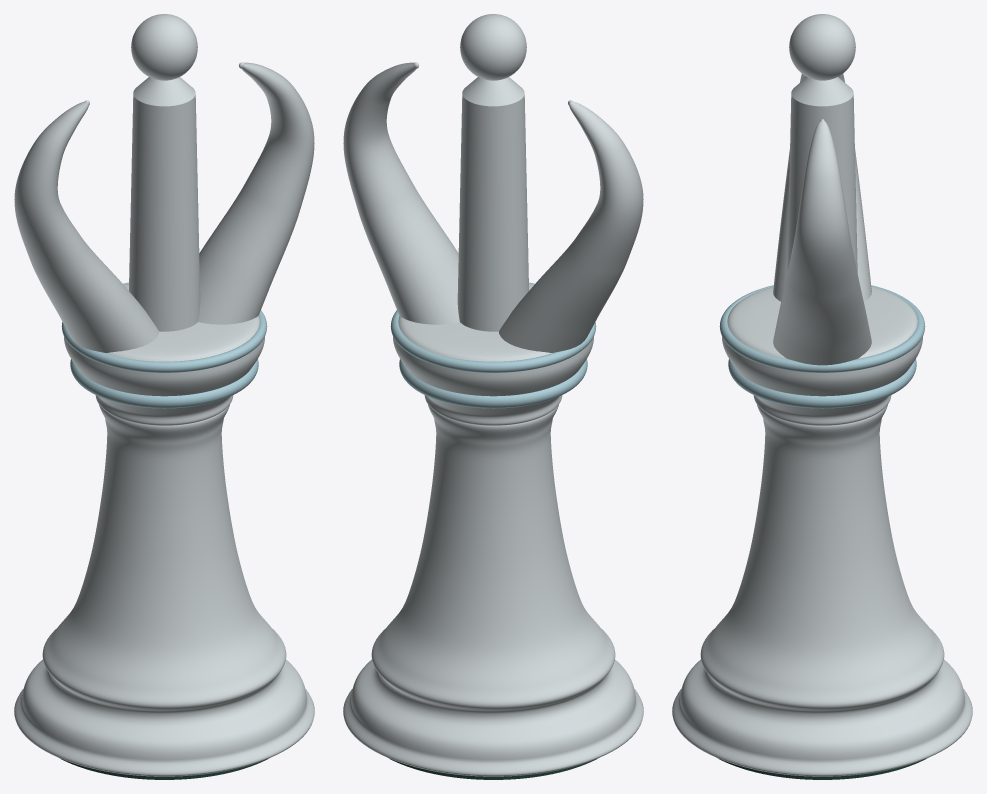
The model's file is Prince.glb.
3 renders of one model, left to right at view 1: azimuth 30°, elevation 25°; view 2: azimuth 150°, elevation 25°; view 3: azimuth 270°, elevation 25°, orthographic.
Parts seen in each view (by area): view 1: base, horn_2_prong, post, horn_1_prong, crown_seat, orb, crown_band, collar_bead, post_tip, felt_pad; view 2: base, horn_2_prong, post, horn_1_prong, crown_seat, orb, crown_band, collar_bead, post_tip, felt_pad; view 3: base, horn_2_prong, crown_seat, post, orb, crown_band, collar_bead, horn_1_prong, post_tip, felt_pad.
Boxes of the visible parts, box(x1,y1,x2,y2) form: base: box(14, 405, 314, 776); horn_2_prong: box(198, 62, 314, 324); post: box(129, 95, 200, 331); horn_1_prong: box(14, 101, 158, 352); crown_seat: box(64, 283, 264, 425); orb: box(131, 14, 197, 80); crown_band: box(61, 282, 267, 372); collar_bead: box(70, 359, 258, 408); post_tip: box(133, 77, 195, 106); felt_pad: box(60, 758, 268, 779); base: box(343, 405, 643, 776); horn_2_prong: box(343, 62, 459, 324); post: box(457, 95, 528, 331); horn_1_prong: box(499, 101, 643, 352); crown_seat: box(393, 283, 593, 425); orb: box(460, 14, 526, 80); crown_band: box(390, 282, 596, 372); collar_bead: box(399, 359, 587, 408); post_tip: box(462, 77, 524, 106); felt_pad: box(389, 758, 597, 779); base: box(672, 405, 972, 776); horn_2_prong: box(773, 121, 871, 365); crown_seat: box(722, 286, 922, 425); post: box(787, 95, 857, 272); orb: box(789, 14, 855, 80); crown_band: box(719, 285, 925, 372); collar_bead: box(728, 359, 916, 408); horn_1_prong: box(773, 74, 871, 301); post_tip: box(791, 77, 853, 106); felt_pad: box(718, 758, 926, 779).
Bounding box in the file's own units: 0.0475 × 0.1101 × 0.0425.
